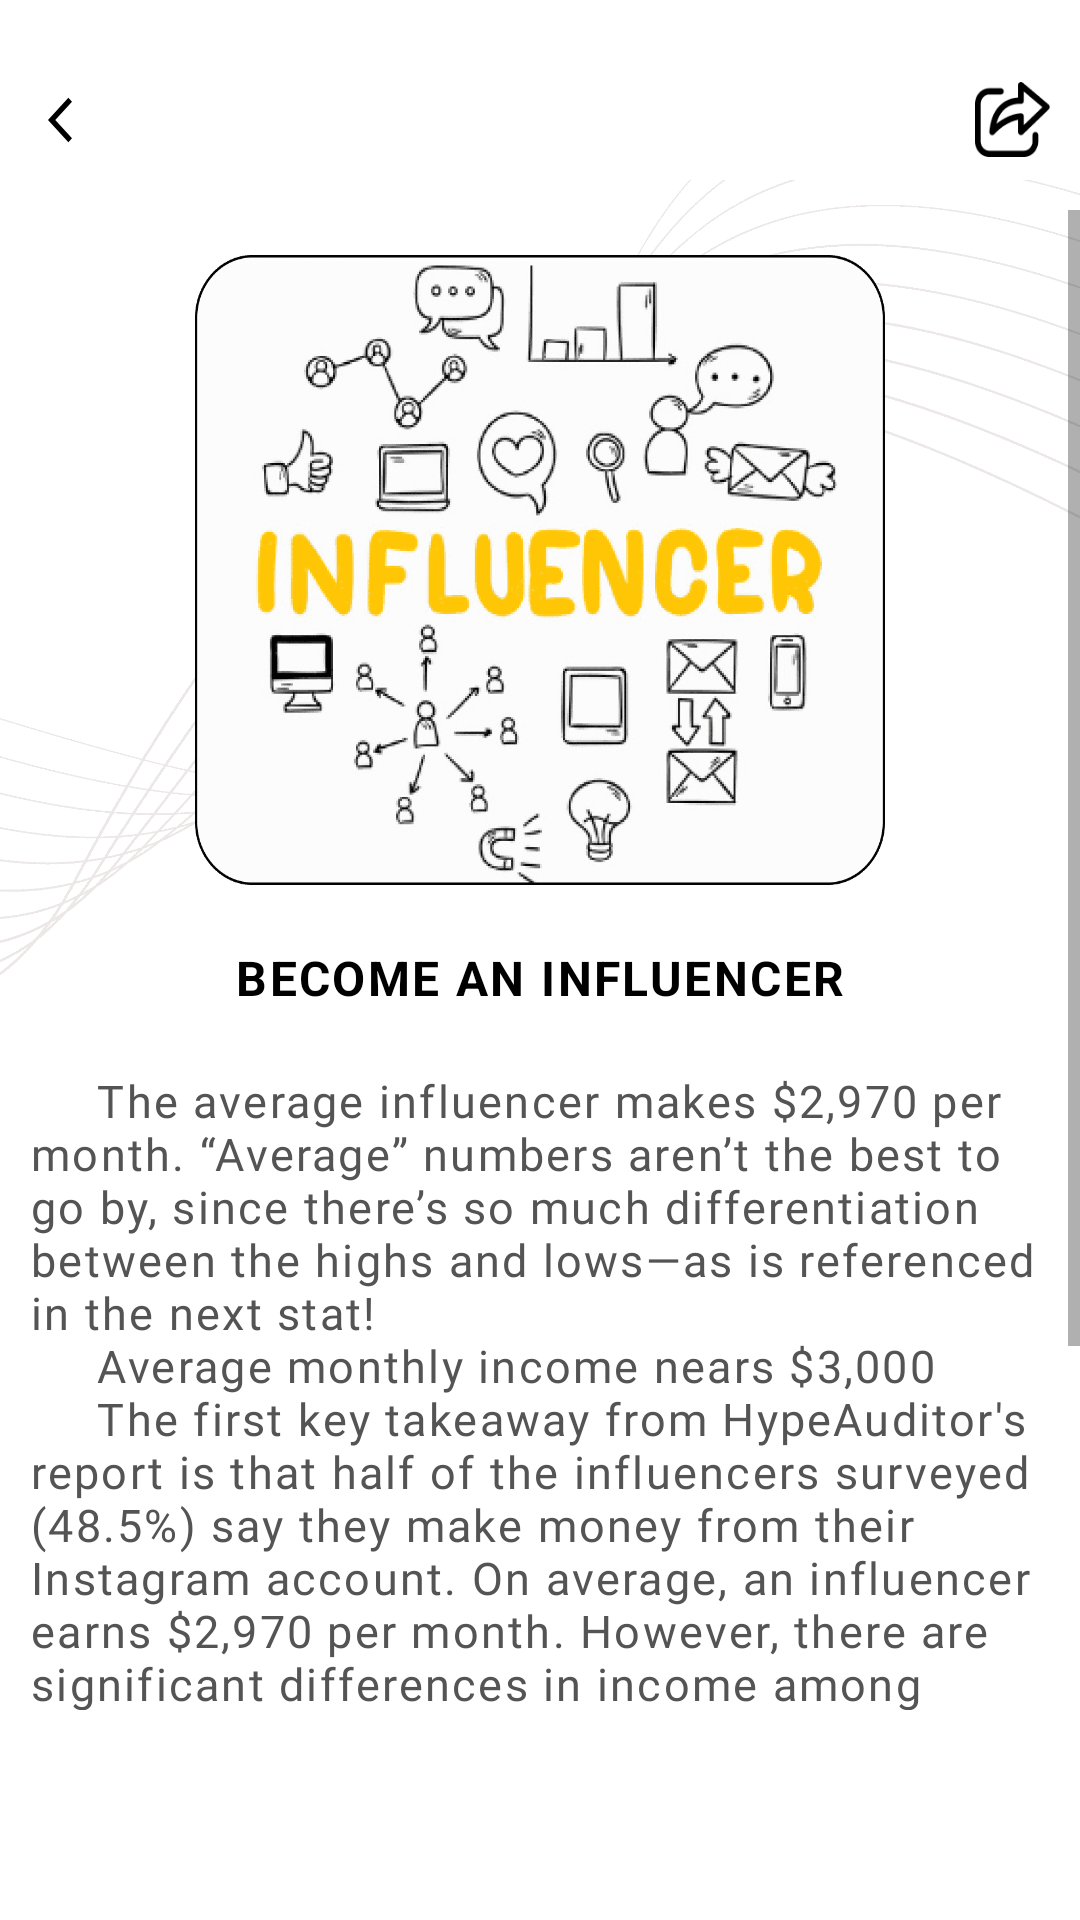

Icon bounding boxes for this 1080px x 1920px phone screenshot, format (x1, y1, x2, y2):
share: (975, 82, 1050, 157)
